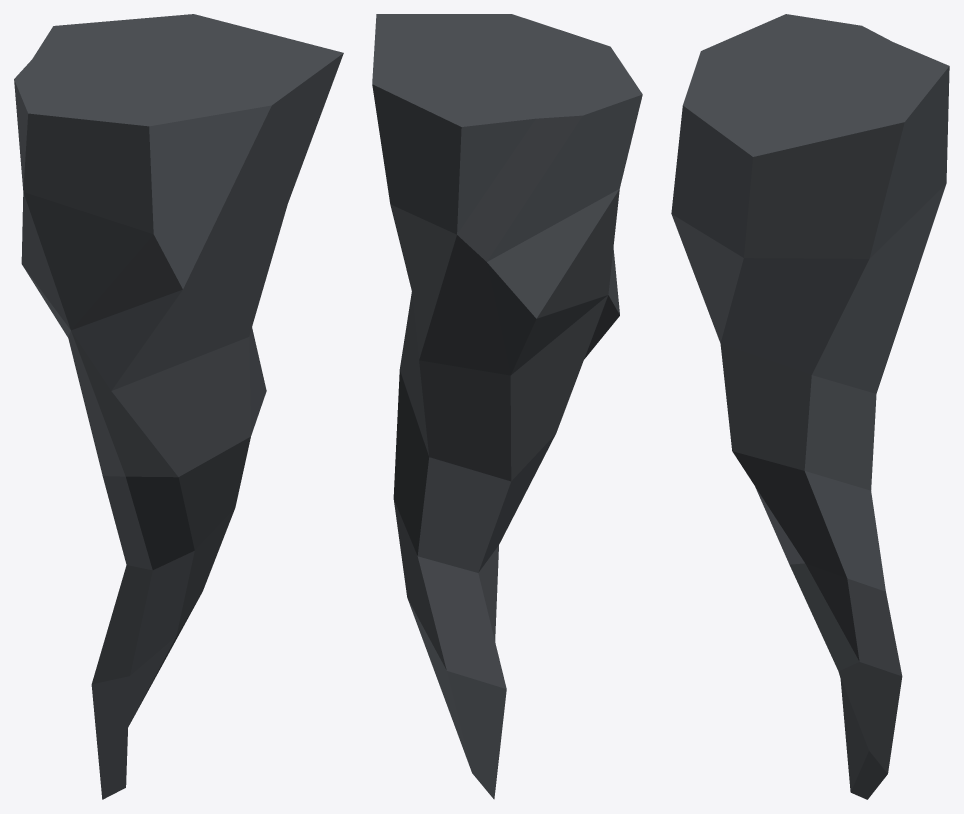
The model's file is Stalagtite_Med.fbx.
3 renders of one model, left to right at view 1: azimuth 30°, elevation 25°; view 2: azimuth 150°, elevation 25°; view 3: azimuth 270°, elevation 25°, orthographic. The views are drawn at different scales.
Parts seen in each view (by area): view 1: Stalagtite_Med; view 2: Stalagtite_Med; view 3: Stalagtite_Med.
Boxes of the visible parts, x1,y1,x2,y2 form: Stalagtite_Med: (14, 14, 343, 799); Stalagtite_Med: (372, 14, 642, 799); Stalagtite_Med: (671, 14, 949, 799).
Size of the model in its own units: 72.1 by 172 by 59.26.
